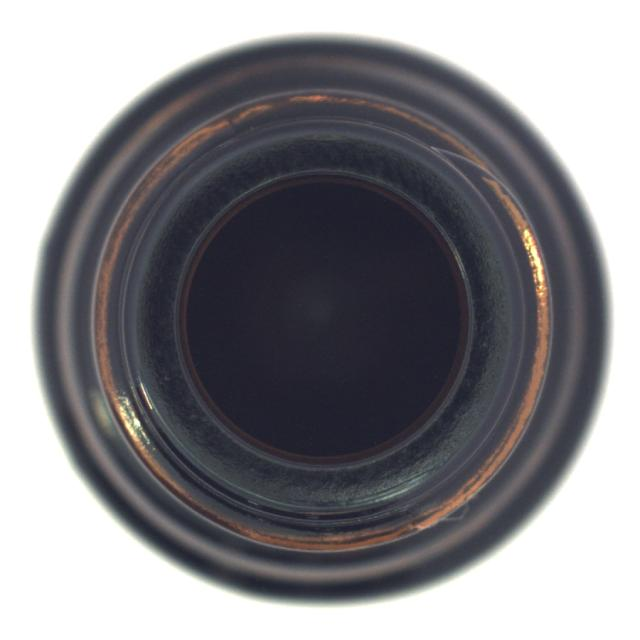bottle-good: (31, 33, 600, 603)
